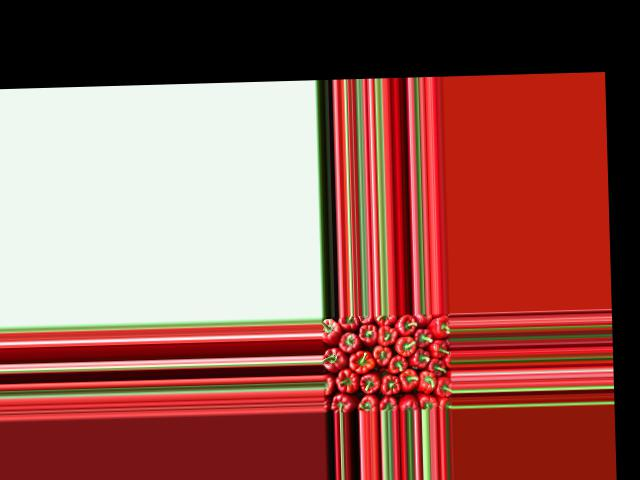bell_pepper: (428, 315, 449, 335)
